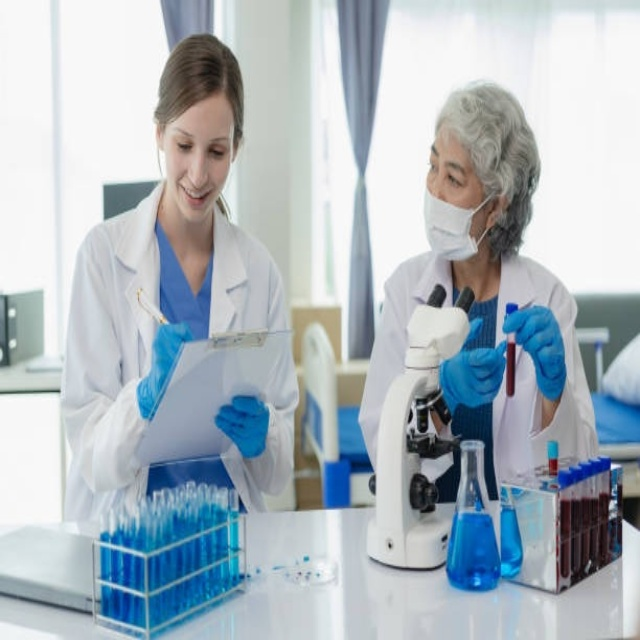Guantes: (439, 318, 507, 419), (503, 303, 566, 401), (135, 321, 195, 420), (214, 395, 270, 459)
Mascara: (423, 185, 493, 261)
Sin_gafas: (169, 122, 228, 166), (427, 140, 473, 188)
Sin_mascara: (174, 173, 219, 216)
